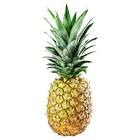Pineapple: (43, 3, 99, 136)
